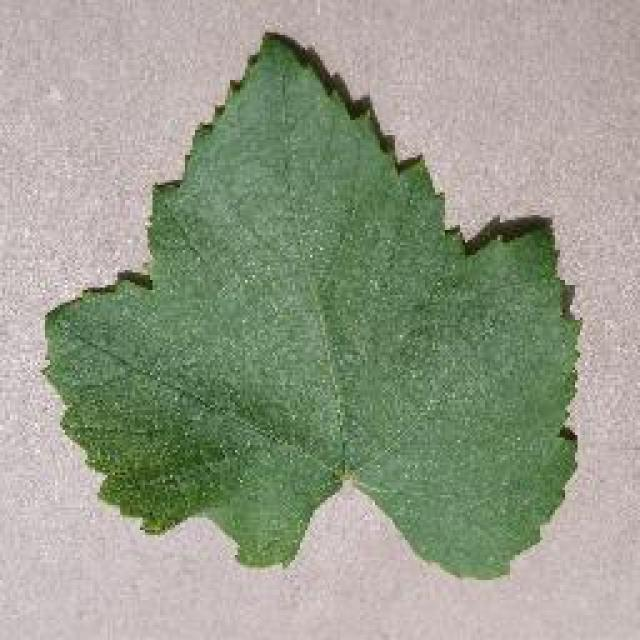Grape___healthy: (48, 38, 575, 572)
